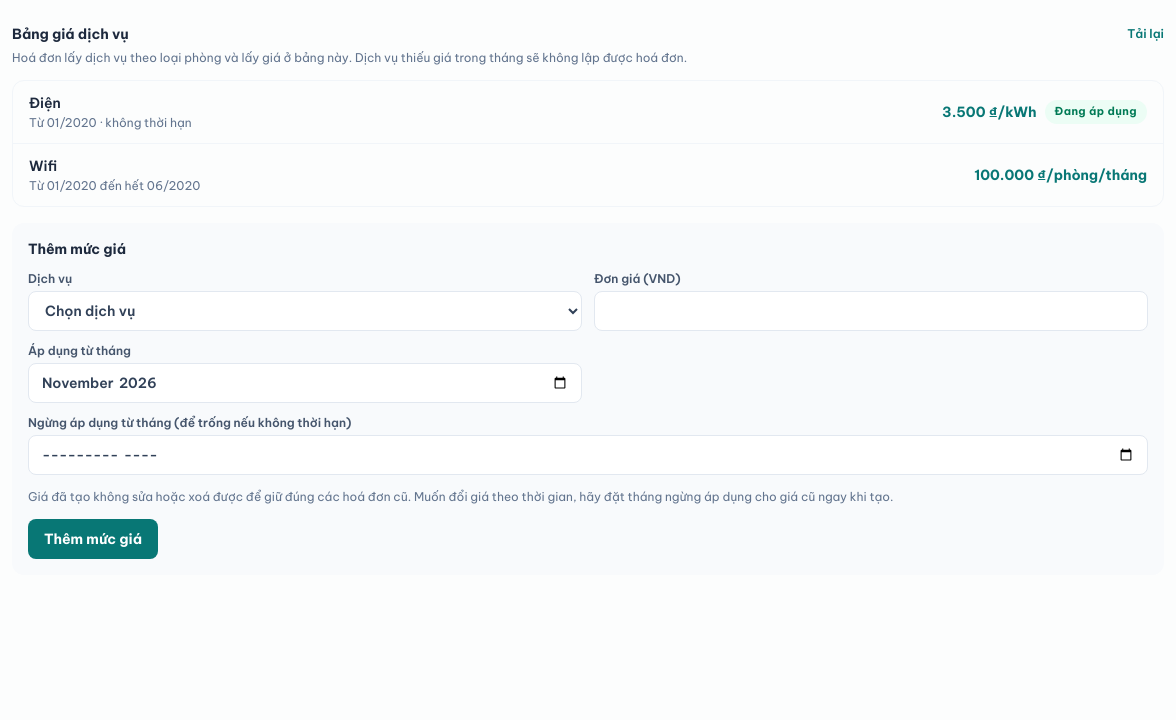
PropertyServiceRatesPanel › lets an Admin add a supported rate and reloads the table
This screenshot has width=1176, height=720.
Click the button "Thêm mức giá".
click(93, 539)  # box top-left (28, 519), bottom-right (158, 559)
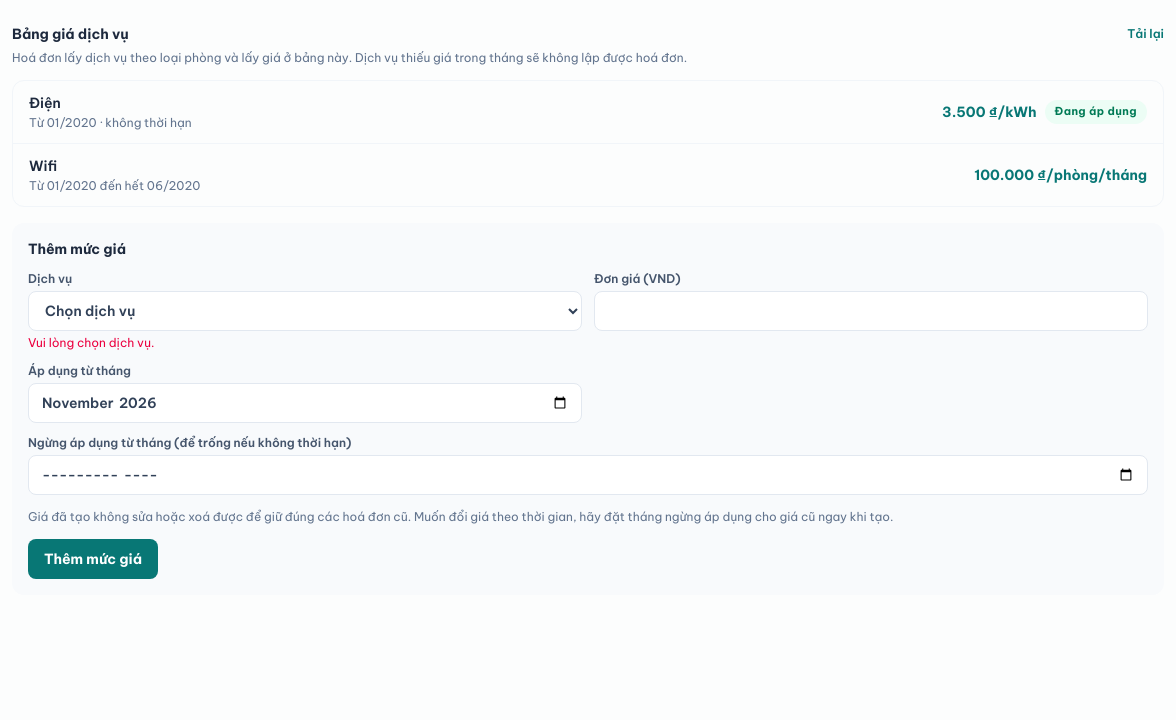
Expected: the message reads "Vui lòng chọn dịch vụ.", top-left (28, 335), bottom-right (154, 350)
Select "Nước" in the dropdown labelled "Dịch vụ" at point(305, 311), box top-left (28, 291), bottom-right (582, 331)
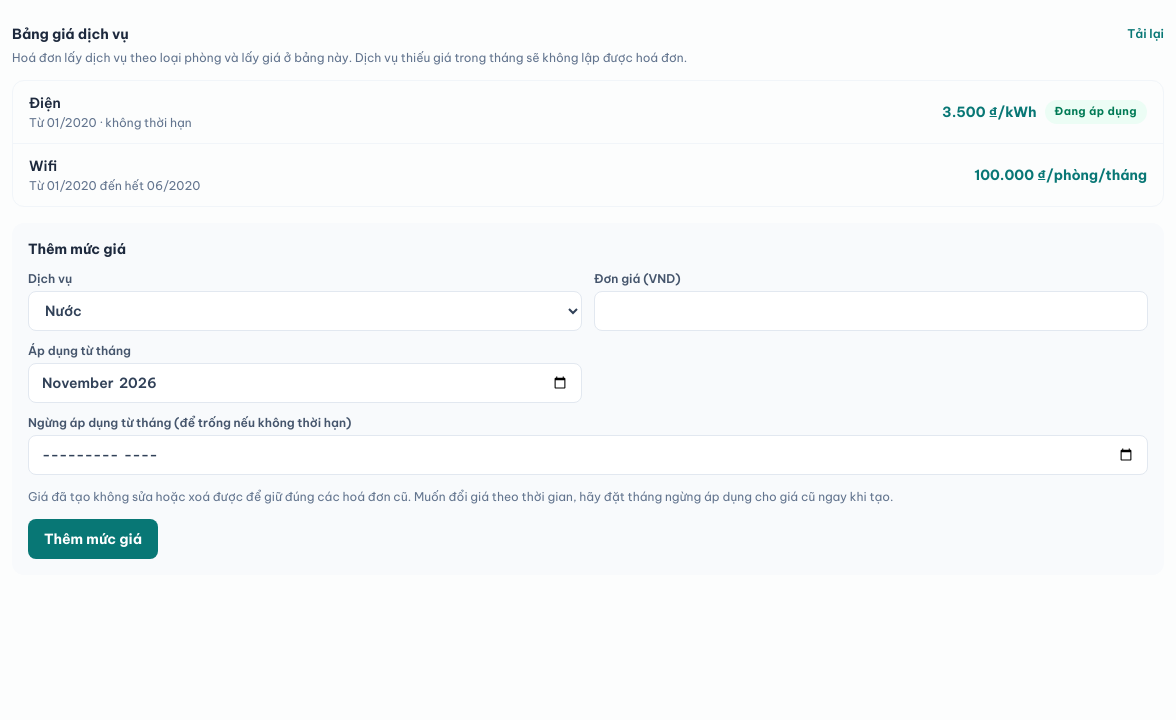
Type "18.000" into the field labelled "Đơn giá (VND)".
click(871, 311); type("18.000")  # box top-left (594, 291), bottom-right (1148, 331)
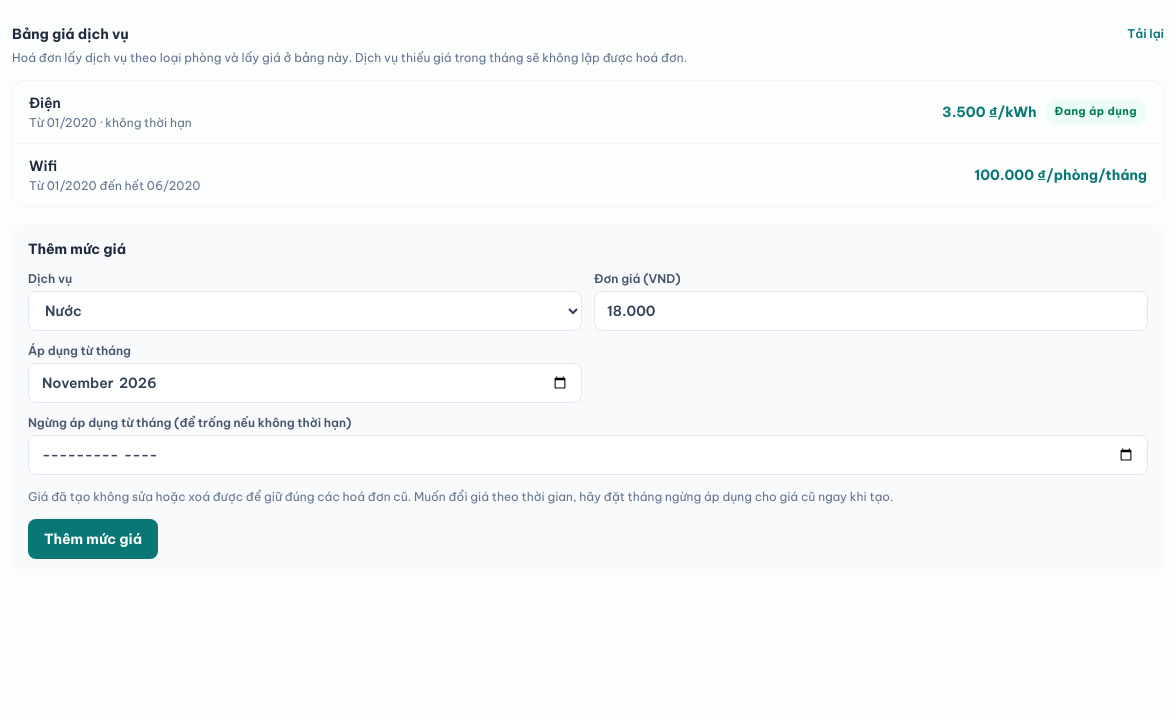
Replace the text in the field labelled "Áp dụng từ tháng" with "2026-12" at point(305, 383), box top-left (28, 363), bottom-right (582, 403)
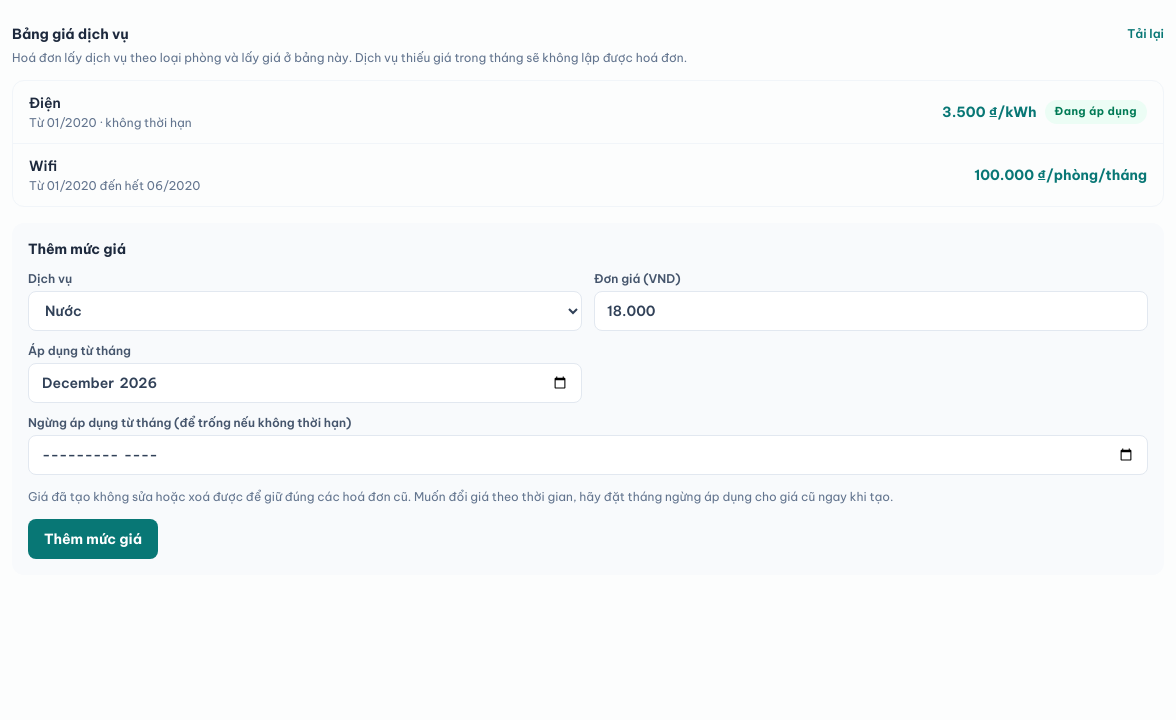
Click the button "Thêm mức giá".
click(93, 539)  # box top-left (28, 519), bottom-right (158, 559)
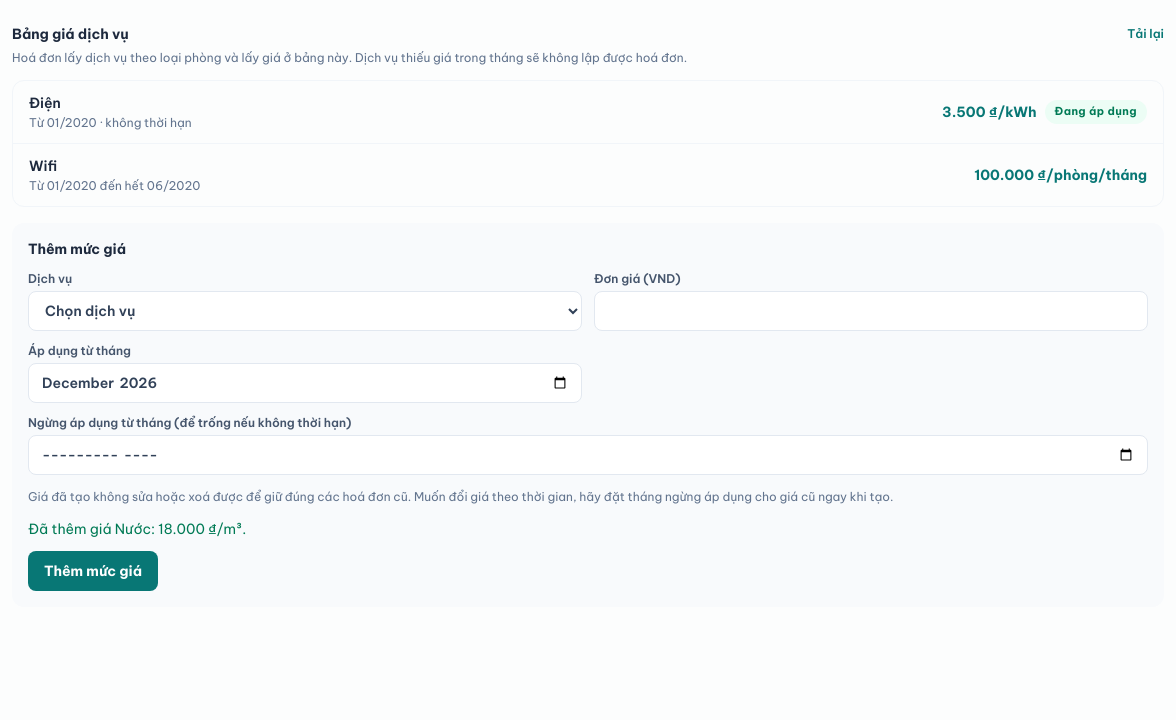
Expected: the text "Đã thêm giá Nước: 18.000 ₫/m³." is shown, top-left (28, 520), bottom-right (246, 538)
